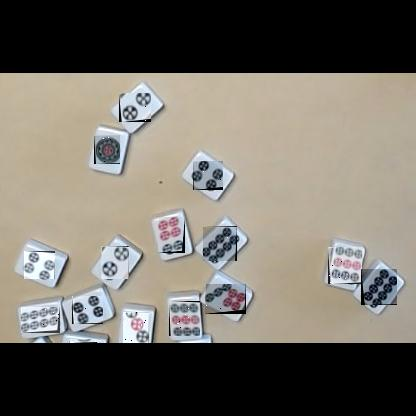1p: (94, 135, 120, 164), (69, 339, 97, 343)
2p: (119, 93, 151, 122), (101, 246, 129, 279)
3p: (123, 312, 149, 343)
4p: (193, 161, 223, 190), (72, 296, 103, 324), (24, 251, 55, 279)
6p: (158, 217, 185, 253)
7p: (205, 284, 246, 314)
8p: (361, 269, 397, 305), (203, 226, 237, 261), (21, 307, 60, 333)
9p: (328, 247, 362, 284), (169, 301, 200, 336)
